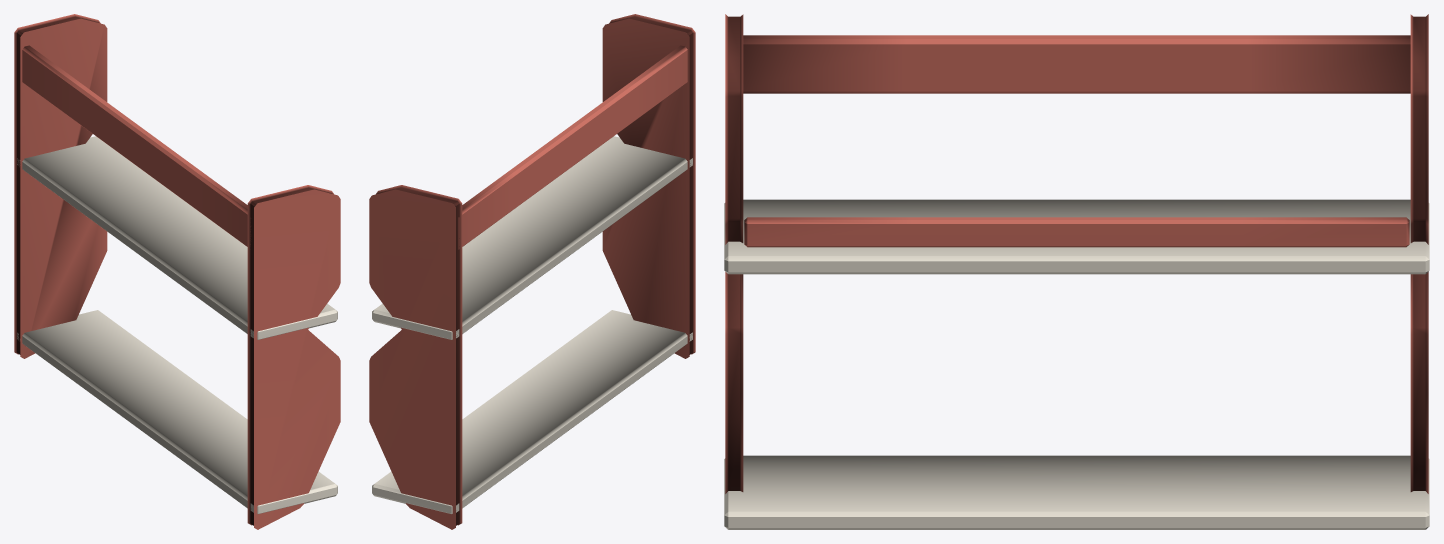
Rendered from nd_wall_shelf.glb.
3 renders of one model, left to right at view 1: azimuth 30°, elevation 25°; view 2: azimuth 150°, elevation 25°; view 3: azimuth 270°, elevation 25°, orthographic. The views are drawn at different scales.
Parts seen in each view (by area): view 1: PART; view 2: PART; view 3: PART.
Part boxes in pixels (x1,y1,x2,y2): PART: (14,14,340,529); PART: (369,14,695,529); PART: (724,14,1429,529).
Size of the model in its own units: 0.146 by 0.5251 by 0.7.
